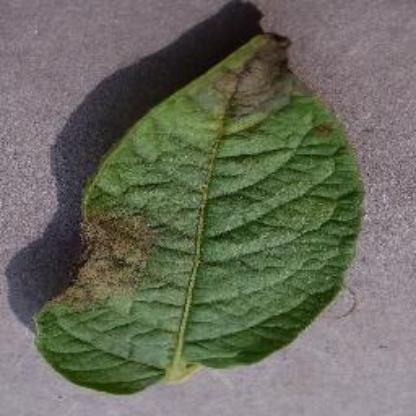Late-Blight: (31, 28, 368, 402)
